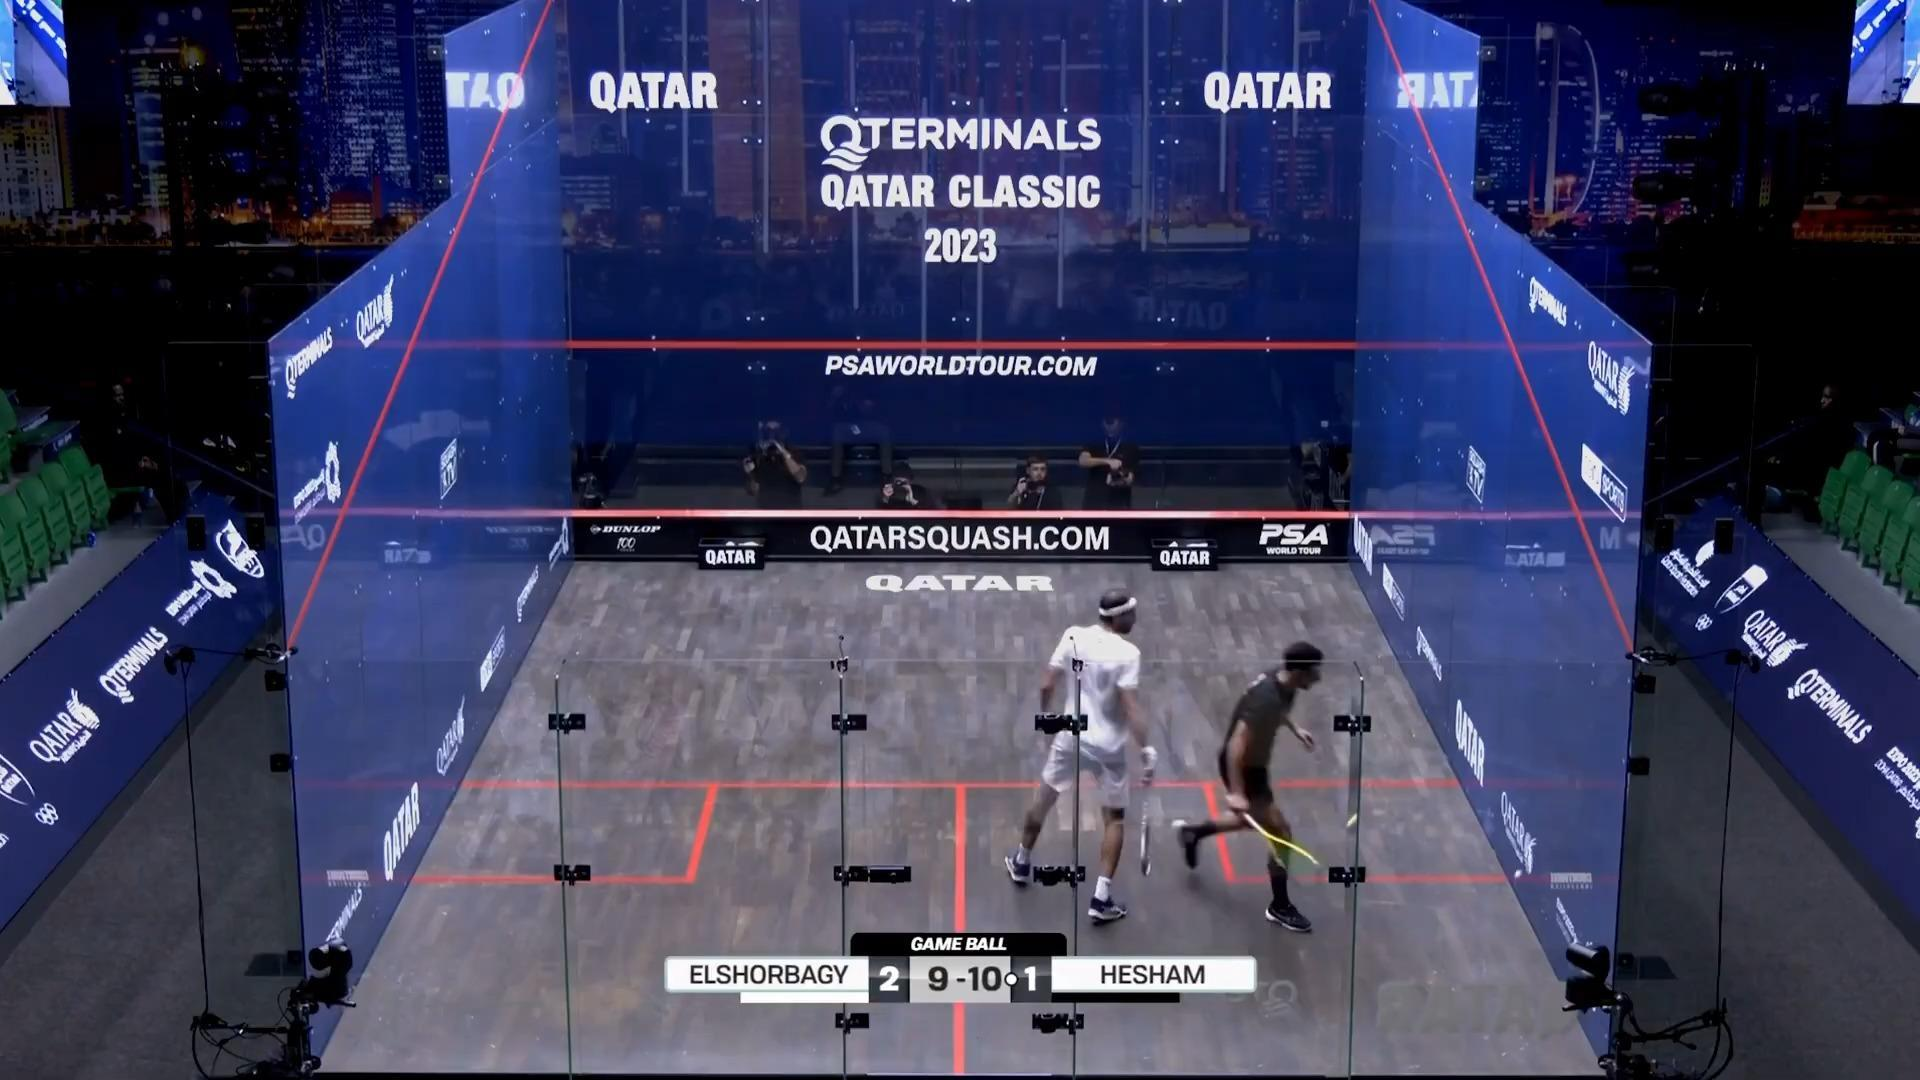Squash-Ball: (1510, 864, 1526, 886)
